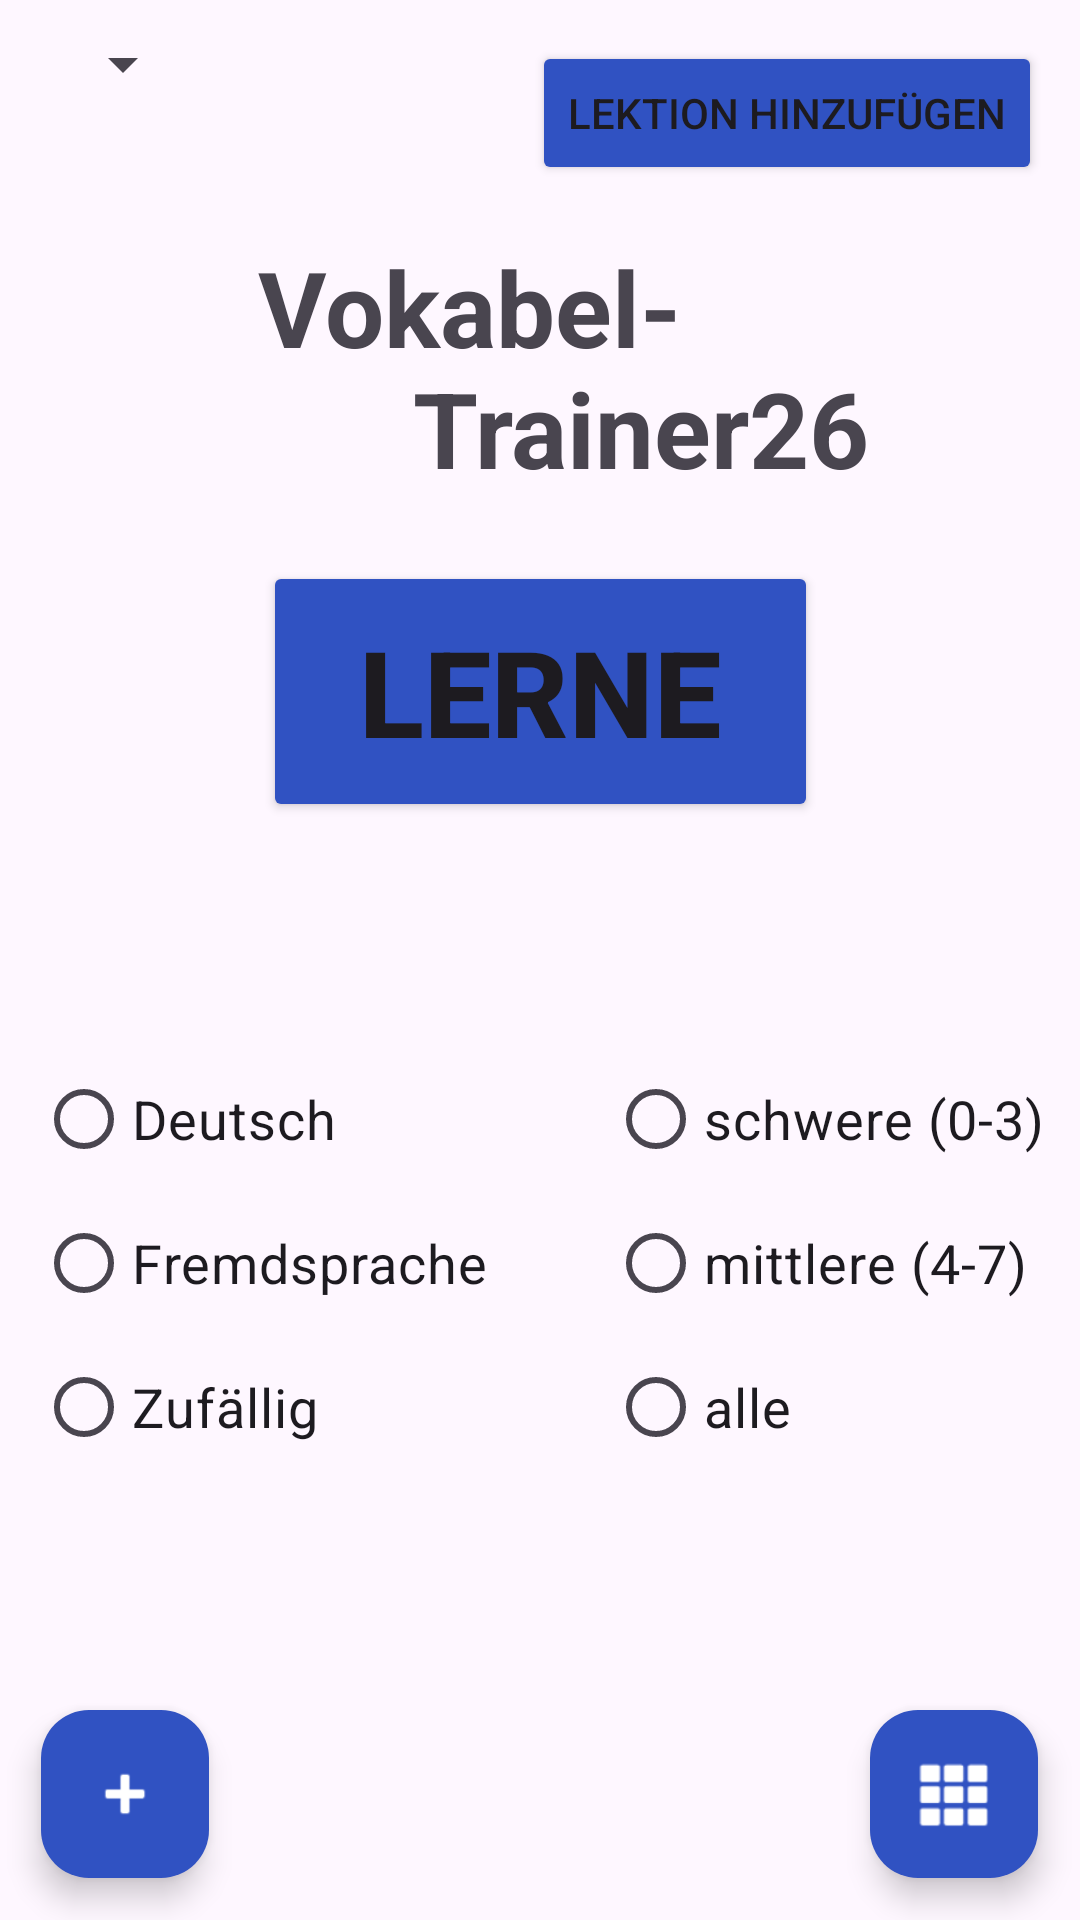

Screen size 1080 × 1920. Icon name, then its center in pixels as (x=x, y=y):
add: (x=125, y=1794)
dialer: (x=954, y=1794)
